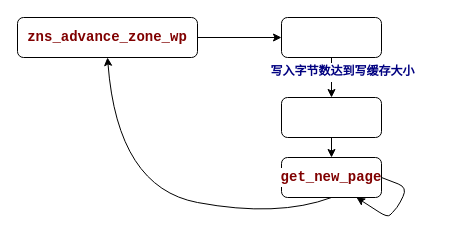
Some shapes in this 450 by 243 pixel diagram are drawn without their labels. The centre of each missing label's shape, as x and y in pixels:
"zns_wc_flush" belongs at (x=331, y=117).
"zns_write" belongs at (x=331, y=37).
